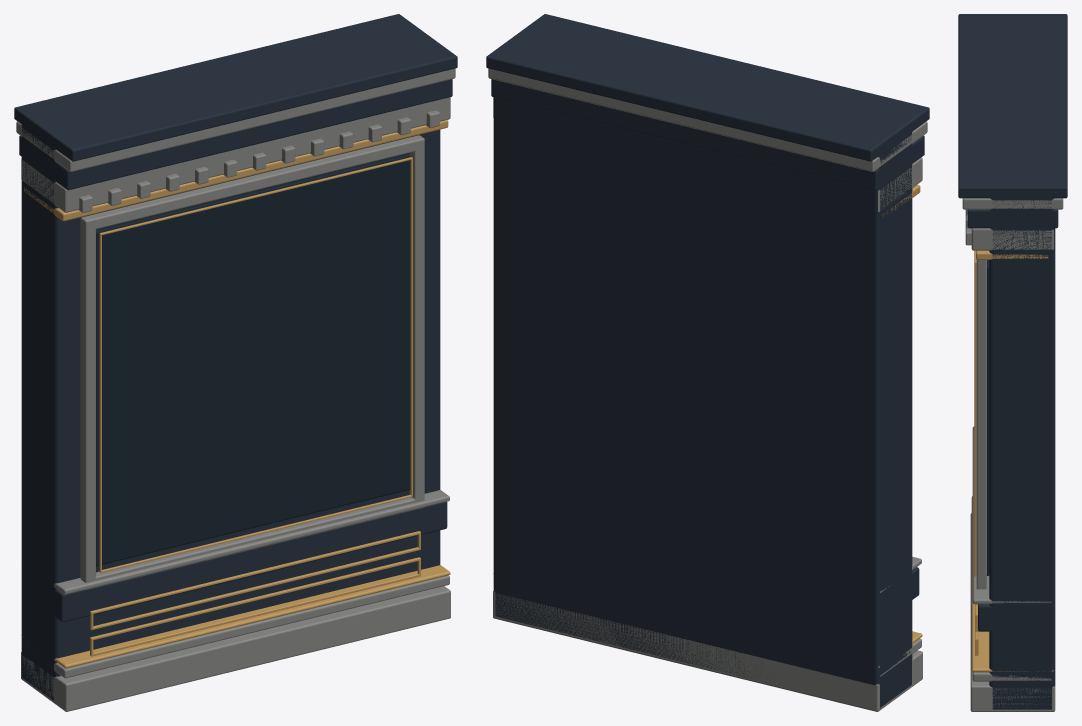
The model's file is DM_Environment_Museum_WallStraight_A.fbx.
3 renders of one model, left to right at view 1: azimuth 30°, elevation 25°; view 2: azimuth 150°, elevation 25°; view 3: azimuth 270°, elevation 25°, orthographic. The views are drawn at different scales.
Visible parts, largest first — view 1: DM_Environment_Museum_WallStraight_A_Delivery_Opaque; view 2: DM_Environment_Museum_WallStraight_A_Delivery_Opaque; view 3: DM_Environment_Museum_WallStraight_A_Delivery_Opaque.
Boxes of the visible parts, x1,y1,x2,y2 form: DM_Environment_Museum_WallStraight_A_Delivery_Opaque: [14, 14, 457, 711]; DM_Environment_Museum_WallStraight_A_Delivery_Opaque: [486, 14, 929, 711]; DM_Environment_Museum_WallStraight_A_Delivery_Opaque: [958, 14, 1067, 711].
Bounding box in the file's own units: 2 × 2.81 × 0.53.
